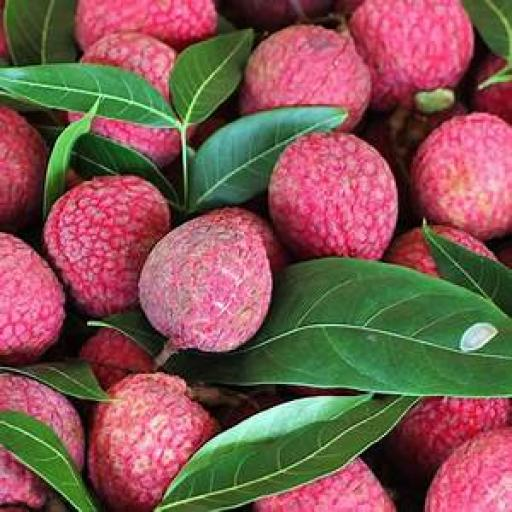lychee: (140, 214, 271, 351), (45, 176, 170, 317), (89, 374, 216, 511), (268, 134, 397, 259), (241, 26, 370, 131), (350, 0, 474, 109), (412, 113, 511, 240), (386, 398, 510, 482), (0, 233, 64, 363), (0, 374, 83, 469), (76, 0, 218, 51), (425, 427, 511, 511), (255, 460, 395, 511), (81, 33, 175, 98), (0, 106, 47, 232), (209, 207, 288, 273), (81, 328, 153, 389), (226, 0, 332, 30), (384, 227, 438, 276), (217, 391, 283, 428), (473, 82, 511, 124), (335, 0, 365, 15), (497, 246, 511, 267), (0, 23, 8, 59)
